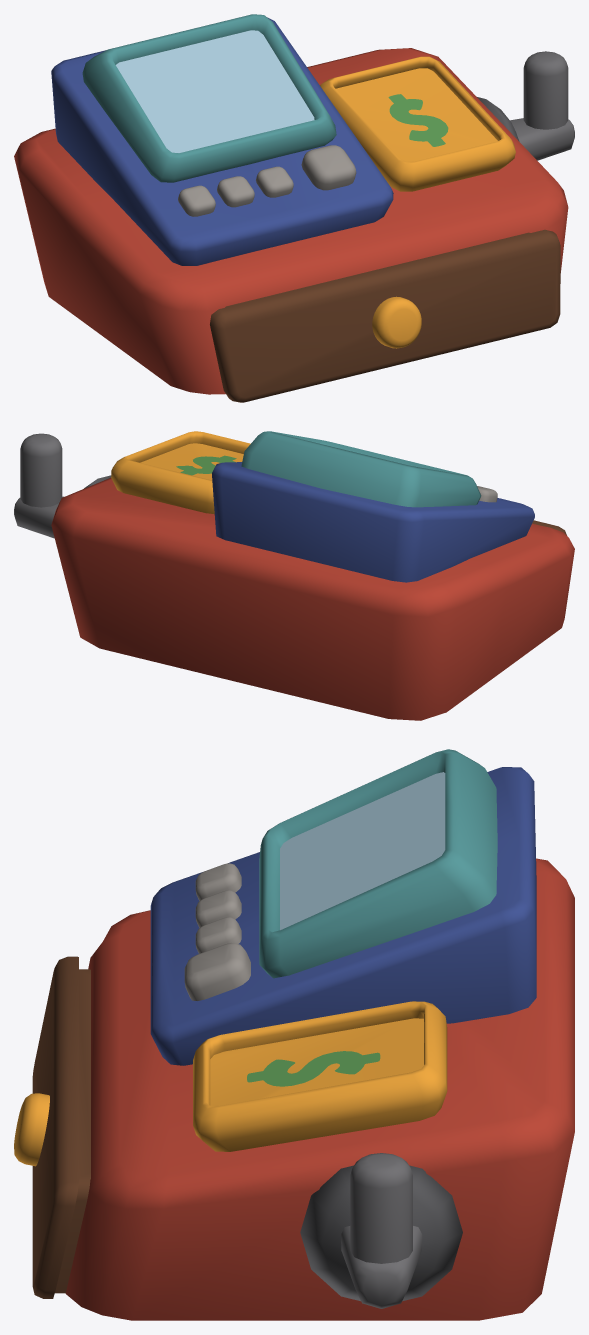
The model's file is cash (1).fbx.
3 renders of one model, top to bottom at view 1: azimuth 30°, elevation 25°; view 2: azimuth 150°, elevation 25°; view 3: azimuth 270°, elevation 25°, orthographic. The views are drawn at different scales.
Visible parts, largest first — view 1: body.002, body.003, changeScreenBottom.003, changeScreenBottom.001, moneyStack, handle.001, Cube.006, dolar, Cube.005, Cube.008, Cube.007; view 2: body.002, changeScreenBottom.001, changeScreenBottom.003, moneyStack, handle.001, dolar; view 3: body.002, changeScreenBottom.001, changeScreenBottom.003, moneyStack, body.003, handle.001, handle2.001, Cube.006, dolar, Cube.007, Cube.005, Cube.008.
Part boxes in pixels (box(x1,y1,x2,y2)): body.002: box(14, 48, 568, 394); body.003: box(210, 229, 560, 402); changeScreenBottom.003: box(82, 14, 336, 182); changeScreenBottom.001: box(51, 17, 393, 265); moneyStack: box(320, 56, 515, 191); handle.001: box(510, 51, 574, 160); Cube.006: box(301, 145, 356, 190); dolar: box(388, 94, 448, 146); Cube.005: box(178, 185, 215, 216); Cube.008: box(256, 166, 293, 197); Cube.007: box(217, 176, 254, 207); body.002: box(51, 477, 574, 720); changeScreenBottom.001: box(212, 462, 534, 582); changeScreenBottom.003: box(241, 431, 481, 507); moneyStack: box(111, 431, 250, 514); handle.001: box(14, 433, 63, 538); dolar: box(176, 455, 236, 475); body.002: box(65, 858, 574, 1320); changeScreenBottom.001: box(150, 767, 536, 1065); changeScreenBottom.003: box(259, 749, 497, 978); moneyStack: box(193, 1001, 447, 1151); body.003: box(14, 956, 90, 1298); handle.001: box(341, 1153, 422, 1308); handle2.001: box(300, 1165, 462, 1301); Cube.006: box(184, 943, 250, 1000); dolar: box(247, 1051, 380, 1086); Cube.007: box(195, 890, 241, 927); Cube.005: box(195, 863, 241, 900); Cube.008: box(195, 917, 241, 953).
Size of the model in its own units: 105 by 48.12 by 71.
